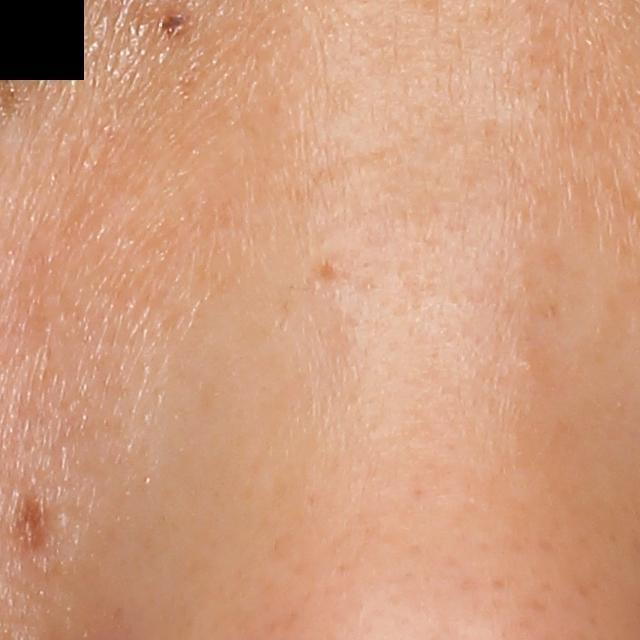nevus: (154, 1, 192, 42)
